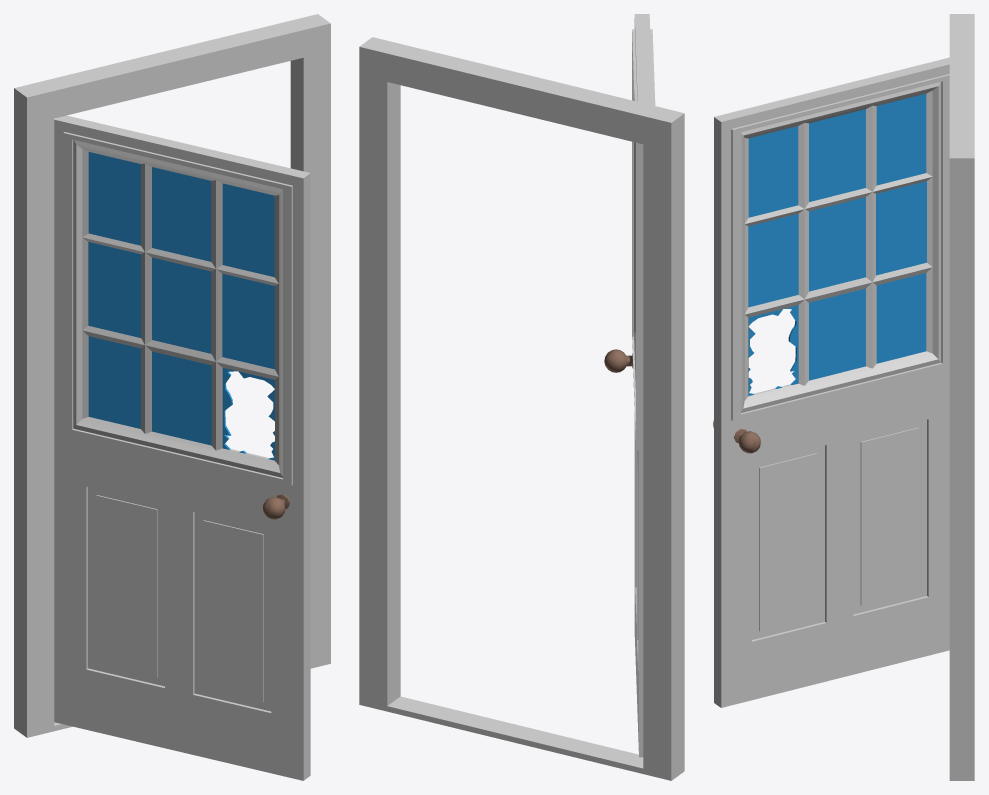
File: open-the-door.glb
3 renders of one model, left to right at view 1: azimuth 30°, elevation 25°; view 2: azimuth 150°, elevation 25°; view 3: azimuth 270°, elevation 25°, orthographic. The views are drawn at different scales.
Parts seen in each view (by area): view 1: Cube002, frame, Cube002_1; view 2: frame, Cube002; view 3: Cube002, Cube002_1, frame, Cube002_2.
Boxes of the visible parts, x1=… form: Cube002: x1=54, y1=115, x2=310, y2=780; frame: x1=14, y1=14, x2=330, y2=737; Cube002_1: x1=88, y1=152, x2=274, y2=460; frame: x1=359, y1=37, x2=684, y2=780; Cube002: x1=632, y1=14, x2=655, y2=757; Cube002: x1=714, y1=57, x2=949, y2=707; Cube002_1: x1=748, y1=93, x2=926, y2=395; frame: x1=949, y1=14, x2=974, y2=780; Cube002_2: x1=713, y1=420, x2=760, y2=453.
Bounding box in the file's own units: 1.2 × 2.42 × 0.9199.
